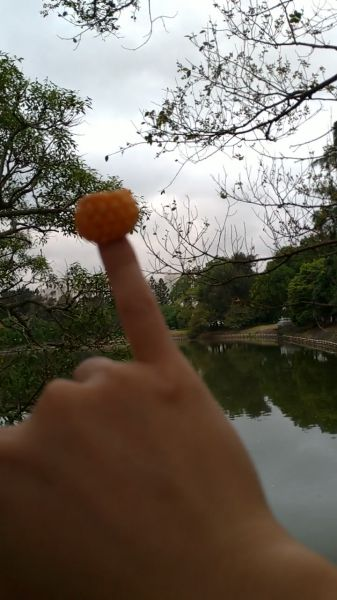eggs: (76, 190, 139, 243)
